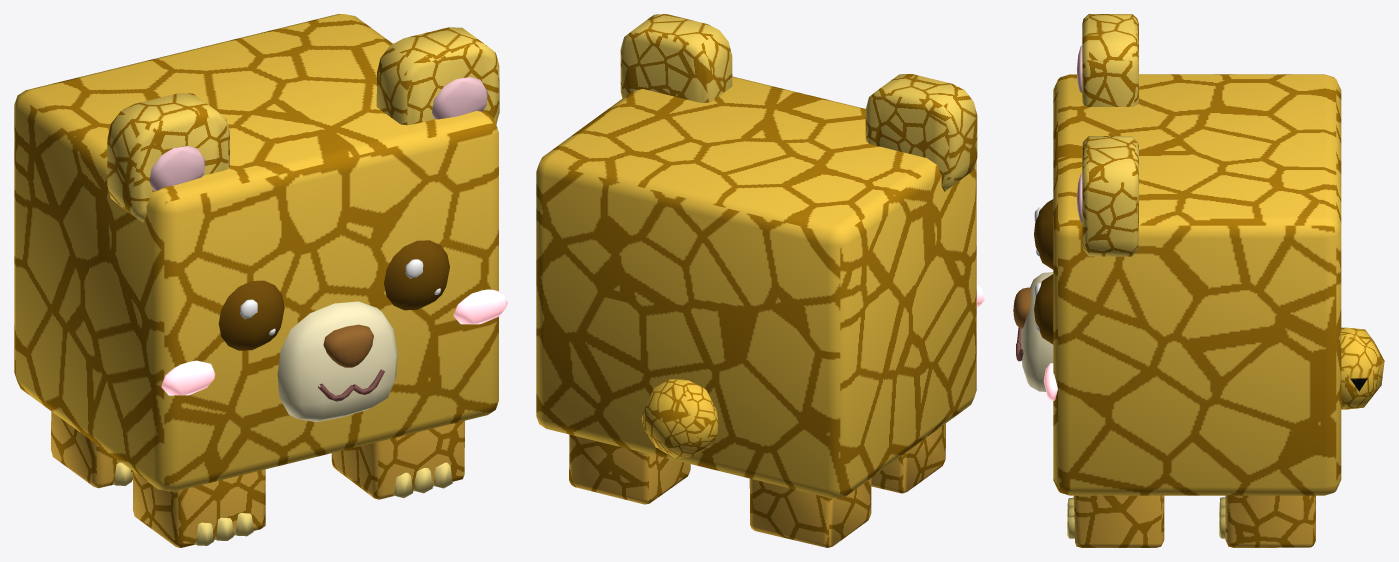
File: Bear_Honigbaer.fbx
The picture shows the model from 3 angles, left to right: view 1: azimuth 30°, elevation 25°; view 2: azimuth 150°, elevation 25°; view 3: azimuth 270°, elevation 25°; orthographic projection. The views are drawn at different scales.
Visible parts, largest first — view 1: Honigbaer_body, Honigbaer_ears, Honigbaer_feet, Honigbaer_muzzle, Honigbaer_eyes, Bear_Honigbaer, Honigbaer_toes, Bear_Honigbaer_cute_innerear_-1, Honigbaer_nose, Bear_Honigbaer_cute_blush_-1; view 2: Honigbaer_body, Honigbaer_ears, Honigbaer_feet, Bear_Honigbaer_cute_tail; view 3: Honigbaer_body, Honigbaer_ears, Honigbaer_feet, Bear_Honigbaer_cute_tail, Honigbaer_eyes, Honigbaer_muzzle, Bear_Honigbaer, Honigbaer_toes, Honigbaer_nose.
Boxes of the visible parts, bbox=[...] form: Honigbaer_body: bbox=[14, 14, 498, 491]; Honigbaer_ears: bbox=[107, 27, 499, 222]; Honigbaer_feet: bbox=[51, 411, 464, 547]; Honigbaer_muzzle: bbox=[277, 301, 397, 421]; Honigbaer_eyes: bbox=[218, 240, 449, 350]; Bear_Honigbaer: bbox=[405, 77, 507, 324]; Honigbaer_toes: bbox=[112, 462, 452, 545]; Bear_Honigbaer_cute_innerear_-1: bbox=[149, 146, 205, 191]; Honigbaer_nose: bbox=[323, 324, 373, 367]; Bear_Honigbaer_cute_blush_-1: bbox=[161, 360, 215, 395]; Honigbaer_body: bbox=[536, 76, 976, 498]; Honigbaer_ears: bbox=[620, 14, 977, 191]; Honigbaer_feet: bbox=[569, 423, 945, 547]; Bear_Honigbaer_cute_tail: bbox=[641, 379, 718, 458]; Honigbaer_body: bbox=[1053, 74, 1341, 495]; Honigbaer_ears: bbox=[1082, 14, 1138, 256]; Honigbaer_feet: bbox=[1073, 495, 1315, 547]; Bear_Honigbaer_cute_tail: bbox=[1341, 327, 1384, 409]; Honigbaer_eyes: bbox=[1034, 199, 1053, 344]; Honigbaer_muzzle: bbox=[1021, 272, 1053, 391]; Bear_Honigbaer: bbox=[1034, 173, 1082, 400]; Honigbaer_toes: bbox=[1067, 497, 1225, 538]; Honigbaer_nose: bbox=[1013, 287, 1030, 328].
Size of the model in its own units: 2.35 by 2.61 by 2.21.
Materials: 12 (4 with a texture image).
